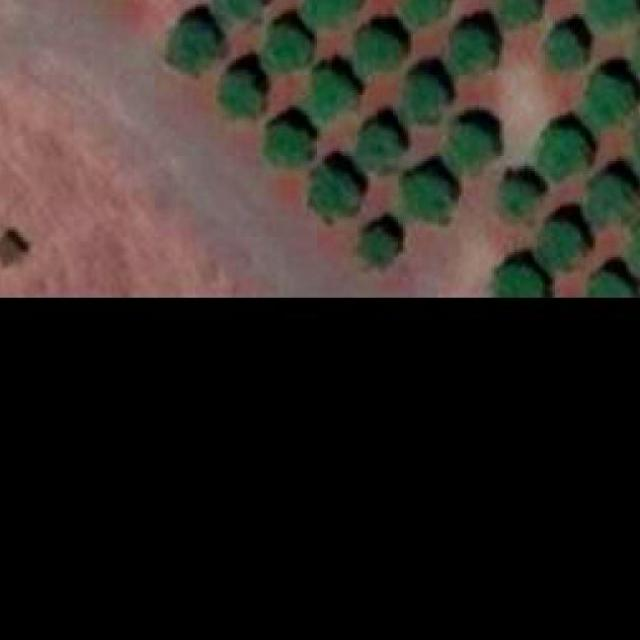Tree: (167, 24, 218, 75), (312, 166, 357, 217), (405, 173, 451, 222), (585, 179, 634, 225), (540, 129, 585, 179), (312, 68, 357, 118), (590, 75, 631, 129), (444, 29, 494, 73), (263, 124, 312, 167), (540, 225, 585, 270), (261, 27, 307, 71), (402, 78, 446, 121), (354, 32, 400, 73), (451, 126, 491, 171), (363, 129, 401, 172), (218, 75, 261, 113), (547, 32, 582, 73), (494, 267, 543, 296), (501, 181, 535, 220), (586, 0, 636, 26), (304, 0, 358, 24), (404, 0, 449, 26), (498, 0, 541, 26), (362, 230, 393, 263), (213, 0, 259, 22), (587, 275, 633, 296)
